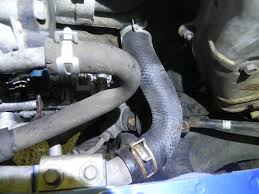radiator_hose: (119, 29, 183, 179)
